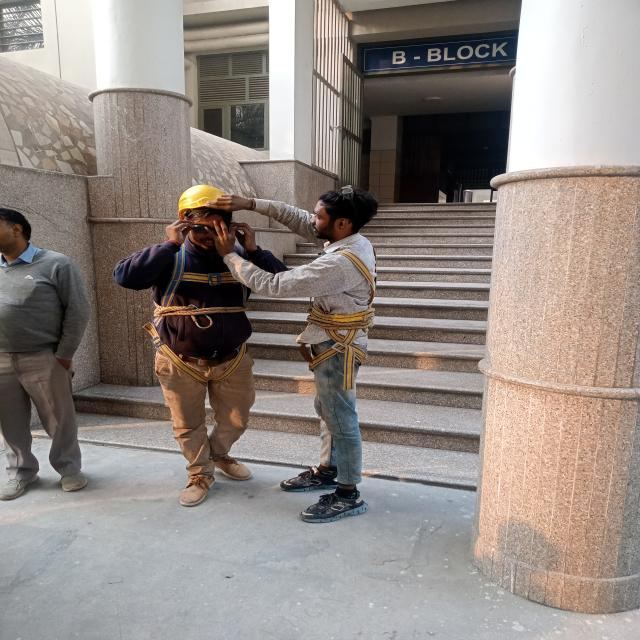no jacket: (137, 184, 265, 502), (0, 207, 103, 499)
unsafe: (276, 190, 383, 525)
